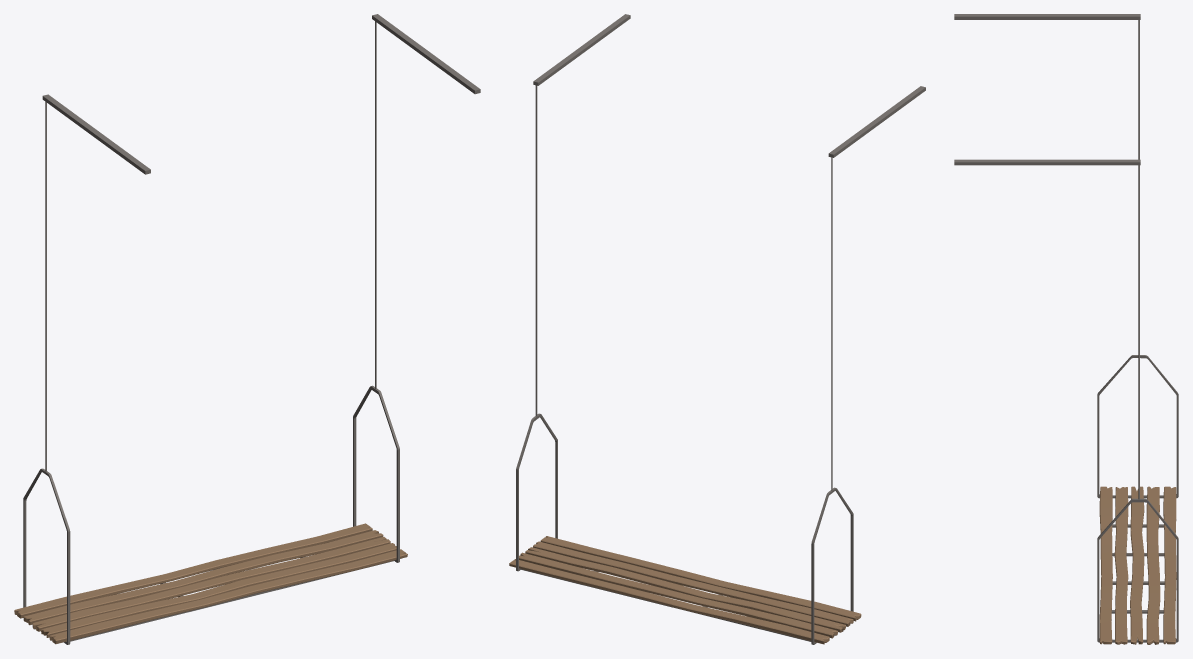
The model's file is Construction platform.fbx.
3 renders of one model, left to right at view 1: azimuth 30°, elevation 25°; view 2: azimuth 150°, elevation 25°; view 3: azimuth 270°, elevation 25°, orthographic. The views are drawn at different scales.
Visible parts, largest first — view 1: Wooden_Planks, Supports, RoofSupports, Wires; view 2: Wooden_Planks, Supports, RoofSupports, Wires; view 3: Wooden_Planks, RoofSupports, Supports, Wires.
Part boxes in pixels (<box>): Wooden_Planks: <box>14,523,407,644</box>; Supports: <box>23,385,399,644</box>; RoofSupports: <box>42,14,480,174</box>; Wires: <box>45,21,376,471</box>; Wooden_Planks: <box>509,536,861,644</box>; Supports: <box>516,413,853,644</box>; RoofSupports: <box>533,14,925,157</box>; Wires: <box>535,85,832,490</box>; Wooden_Planks: <box>1099,486,1176,644</box>; RoofSupports: <box>954,14,1140,165</box>; Supports: <box>1097,355,1178,642</box>; Wires: <box>1138,20,1139,499</box>.
Bounding box in the file's own units: 822 × 1180 × 497.
